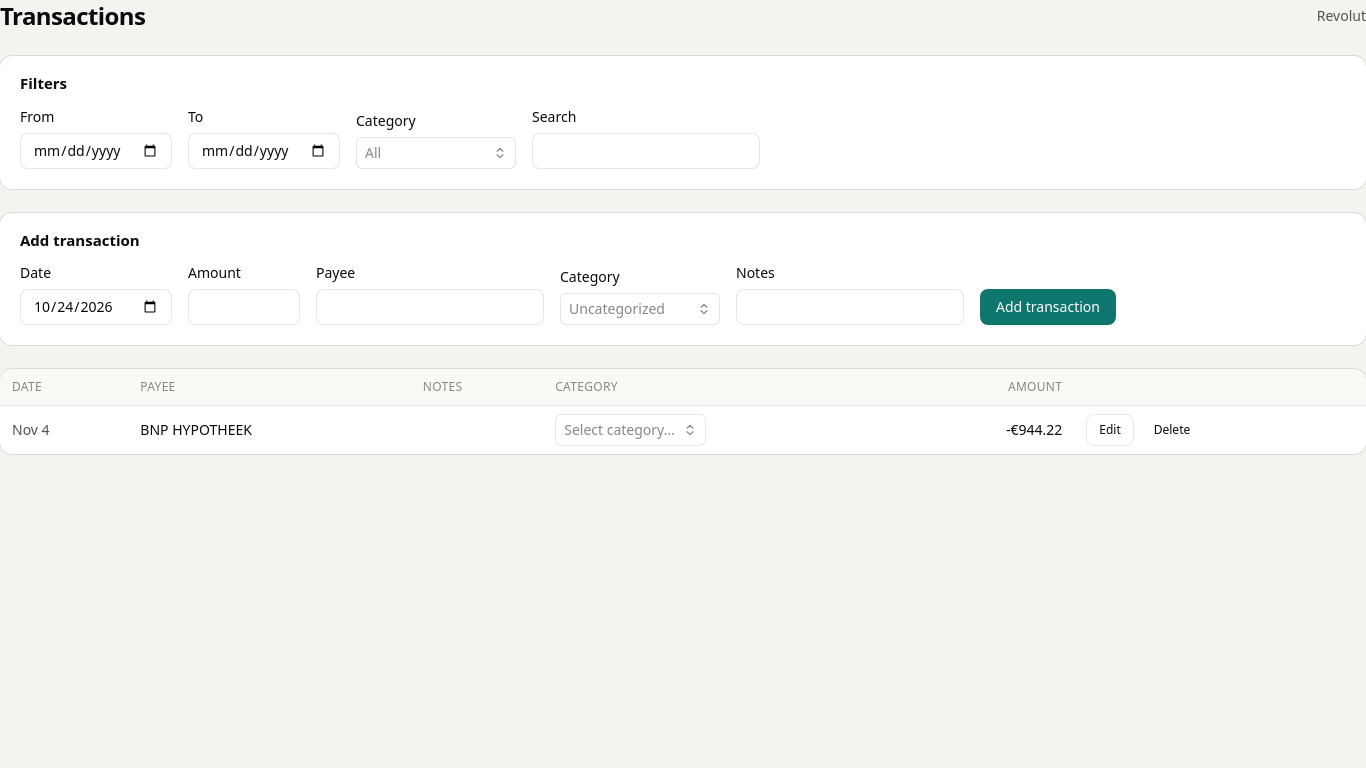
Test: A loan with a schedule › doesn't offer the scheduled loan as a transfer target from its payer
Click the button "Select category…": (630, 430) [555,414,706,446]
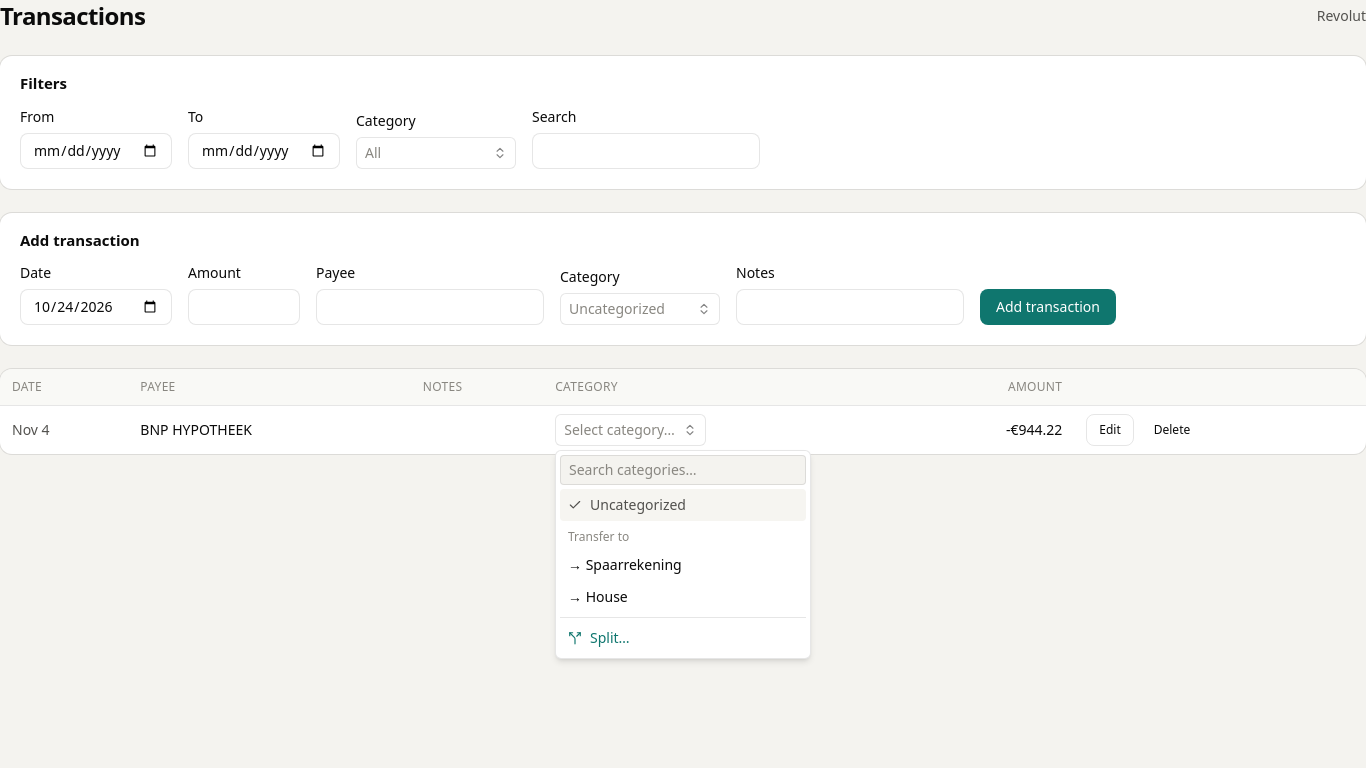
Now the option "→ Spaarrekening" is shown, box [568,555,682,574]
